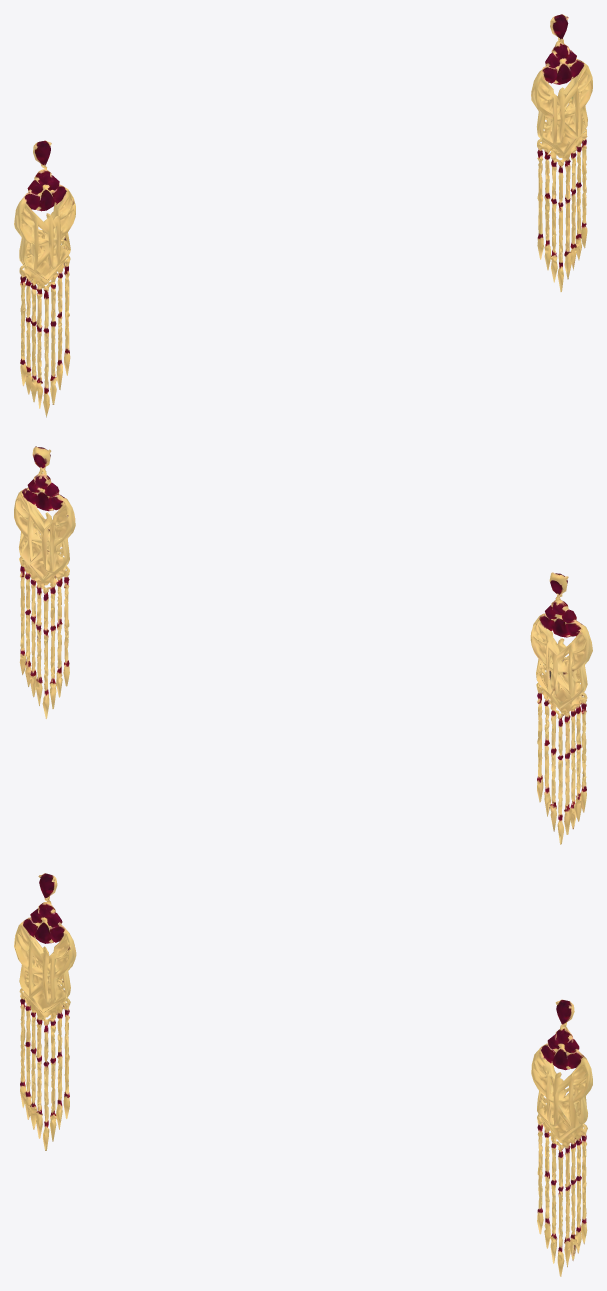
The model's file is garnet-earrings.glb.
The picture shows the model from 3 angles, top to bottom: view 1: azimuth 30°, elevation 25°; view 2: azimuth 150°, elevation 25°; view 3: azimuth 330°, elevation 25°; orthographic projection.
Visible parts, largest first — view 1: garnet-fringe-earrings; view 2: garnet-fringe-earrings; view 3: garnet-fringe-earrings.
Part boxes in pixels (<box>): garnet-fringe-earrings: <box>14,14,592,417</box>; garnet-fringe-earrings: <box>14,446,592,844</box>; garnet-fringe-earrings: <box>14,873,592,1276</box>.
Size of the model in its own units: 17.58 by 8 by 0.6279.
1 material, 1 textured.
